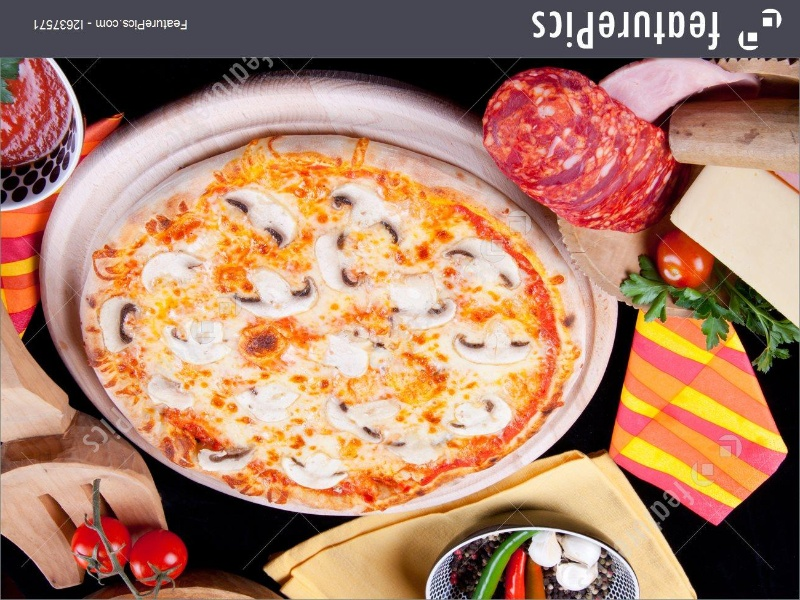champignon: (325, 180, 421, 247), (228, 257, 322, 325), (219, 182, 304, 250), (436, 237, 520, 294), (318, 391, 402, 448), (307, 226, 372, 296), (454, 322, 539, 372), (138, 242, 204, 298), (94, 294, 152, 355), (282, 450, 354, 497), (447, 396, 515, 436)
